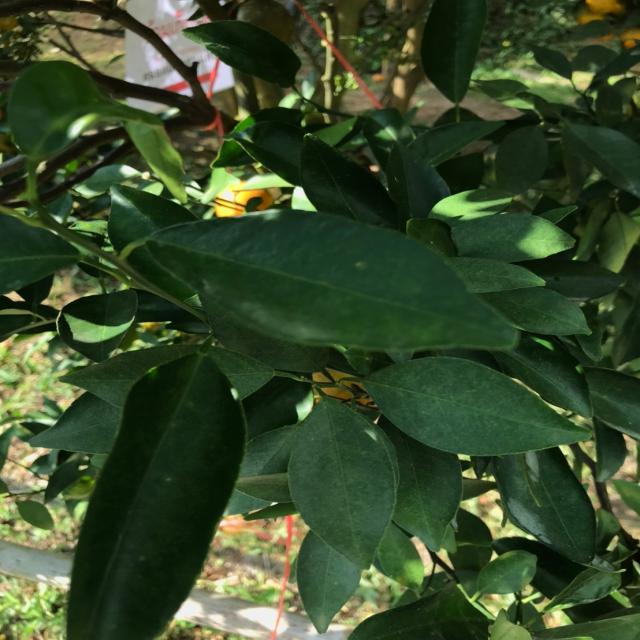healthy: (154, 211, 514, 361), (64, 361, 239, 640), (364, 357, 595, 458), (286, 405, 395, 562), (393, 448, 472, 550), (0, 211, 79, 294)
